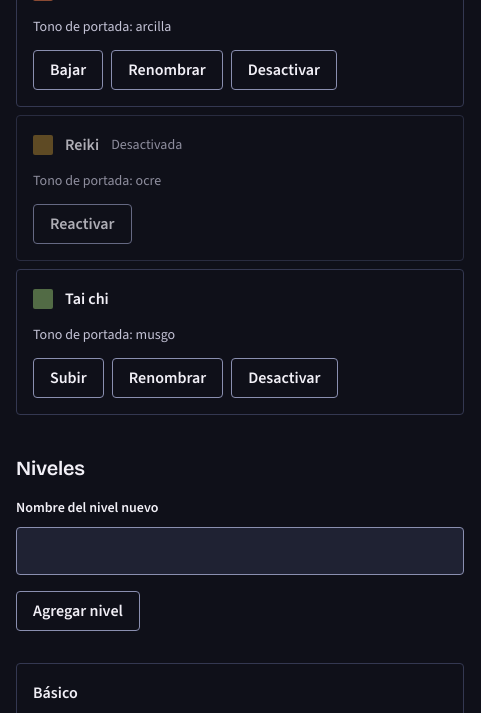
Test case: renombrar › abre la fila con el nombre de ahora, el foco en el campo, y no pinta ningún otro botón en la lista
(page scrolled)
Click the button named "Renombrar «Tai chi»" at (168, 378), box [112, 358, 223, 398]
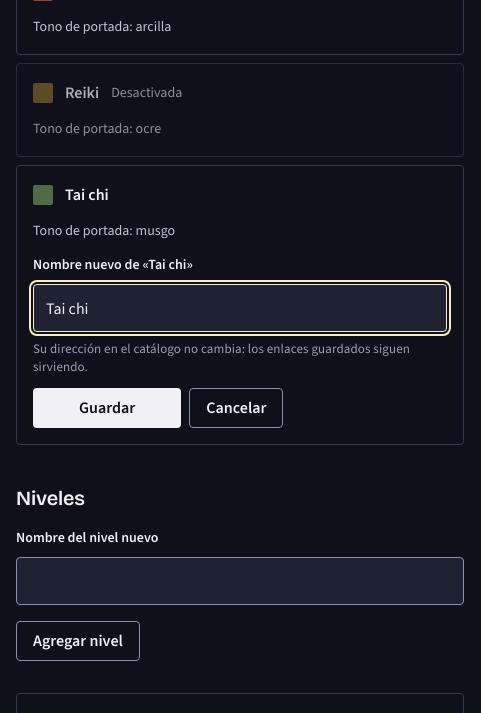
Now the field labelled "Nombre nuevo de «Tai chi»" holds "Tai chi", box [33, 284, 447, 332]
